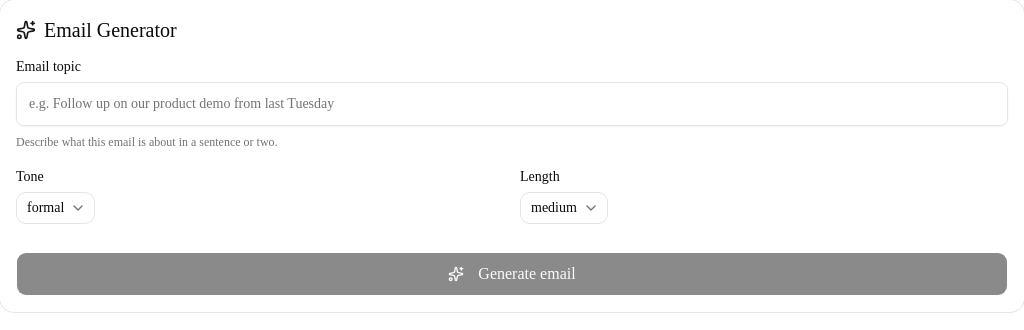
Test: EmailGenerator component › shows loading state while generating
The width and height of the screenshot is (1024, 330).
Type "test topic" into the field labelled "Email topic". click: (512,104)
box: left=16, top=82, right=1008, bottom=126
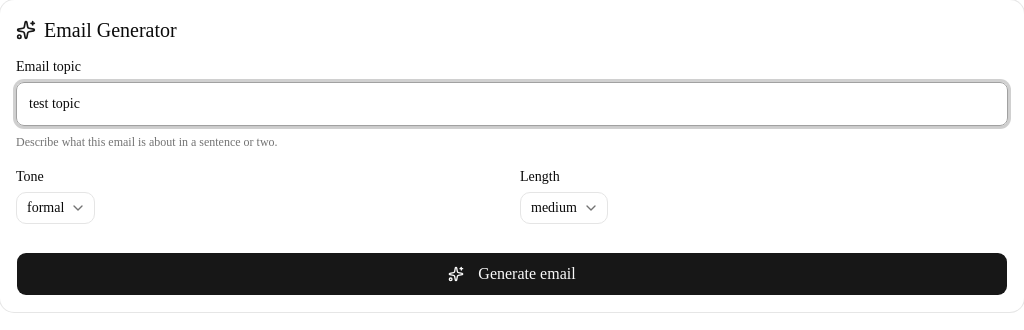
Click the button "Generate email". click: (512,274)
box: left=16, top=252, right=1008, bottom=296
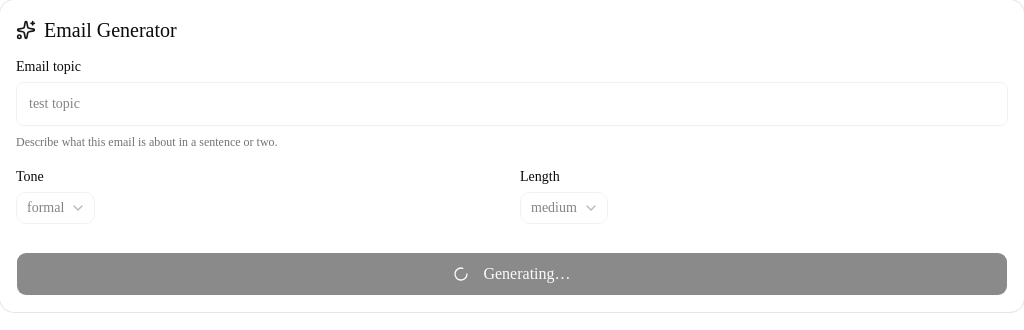
Now the button "Generating…" is shown, box left=16, top=252, right=1008, bottom=296
